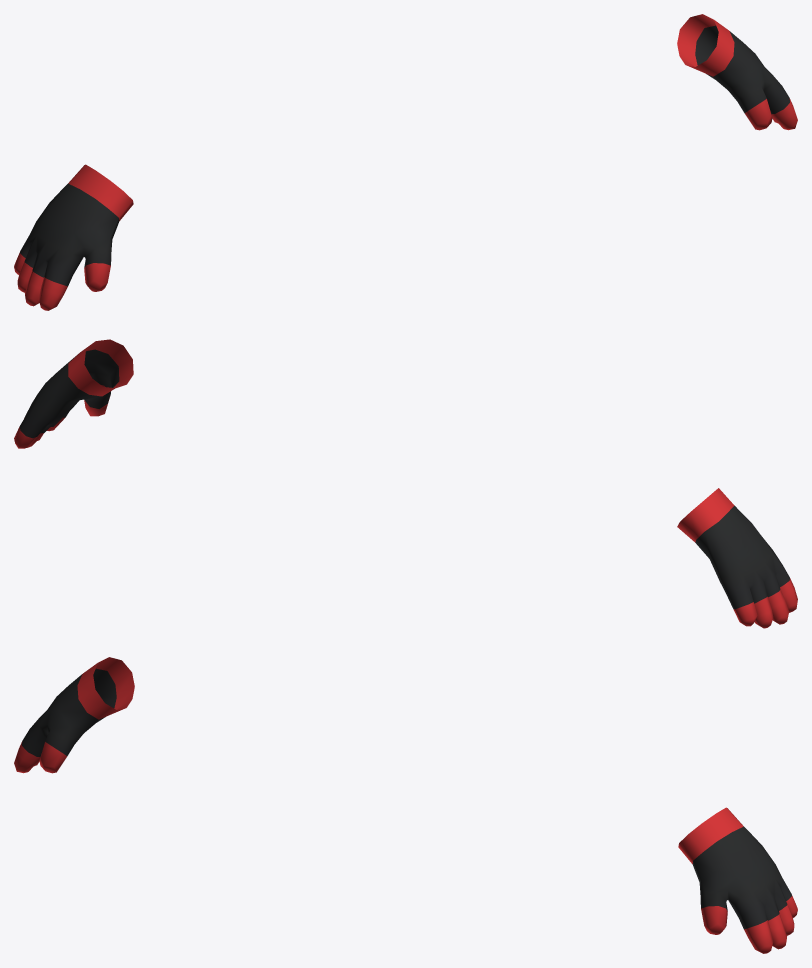
Rendered from gloves_014.glb.
3 views of the same model, one above another, from view 1: azimuth 30°, elevation 25°; view 2: azimuth 150°, elevation 25°; view 3: azimuth 330°, elevation 25° (orthographic).
Parts seen in each view (by area): view 1: Gloves_014; view 2: Gloves_014; view 3: Gloves_014.
Boxes of the visible parts, box(x1,y1,x2,y2) form: Gloves_014: box(14, 14, 797, 310); Gloves_014: box(14, 339, 797, 628); Gloves_014: box(14, 657, 797, 953).
Size of the model in its own units: 1.45 by 0.2133 by 0.1773.
Materials: 1 (1 with a texture image).
